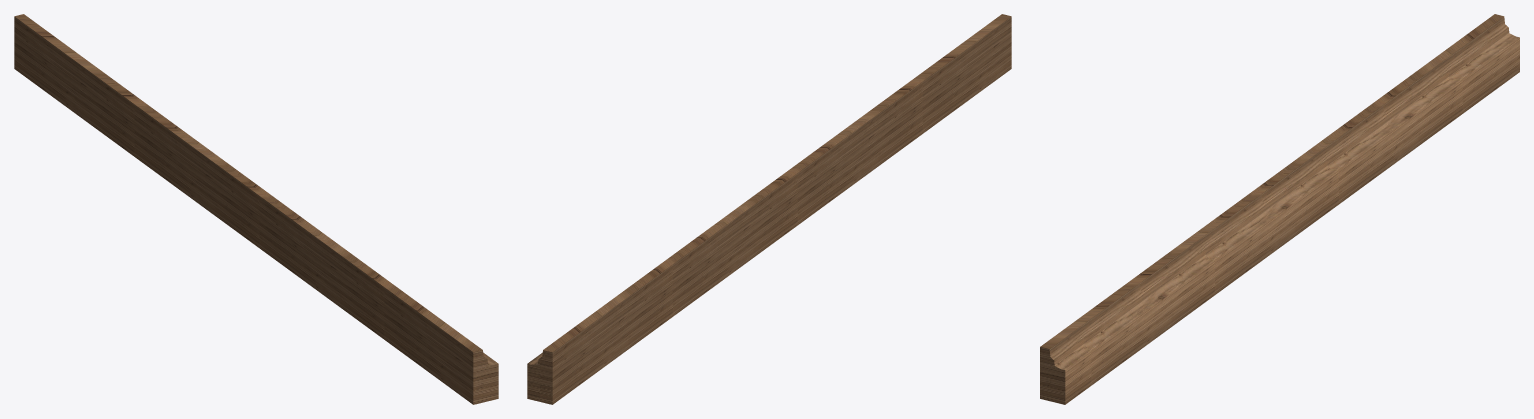
File: souptrim003.obj
3 renders of one model, left to right at view 1: azimuth 30°, elevation 25°; view 2: azimuth 150°, elevation 25°; view 3: azimuth 330°, elevation 25°, orthographic.
Visible parts, largest first — view 1: souptrim003_high_1; view 2: souptrim003_high_1; view 3: souptrim003_high_1.
Boxes of the visible parts, x1,y1,x2,y2 form: souptrim003_high_1: (14, 14, 498, 404); souptrim003_high_1: (527, 14, 1011, 404); souptrim003_high_1: (1040, 14, 1519, 404).
Size of the model in its own units: 0.0861 by 0.1712 by 2.71.
